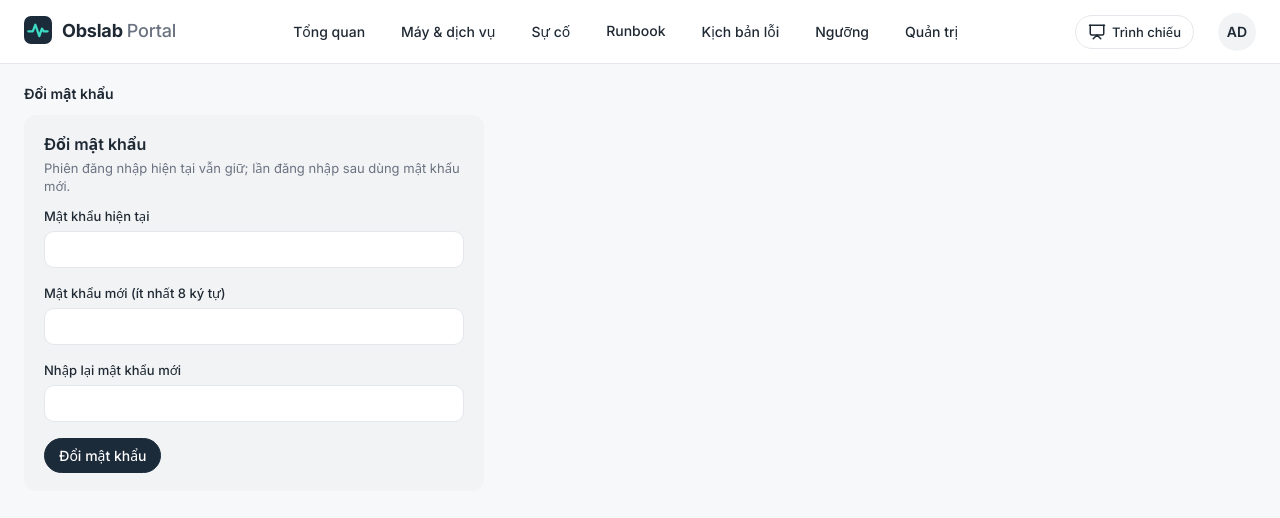
Test: đổi mật khẩu › sai mật khẩu hiện tại: hiện thông báo của backend
In the password field labelled "Mật khẩu hiện tại": (254, 250) [44,231,464,268], type "sai"
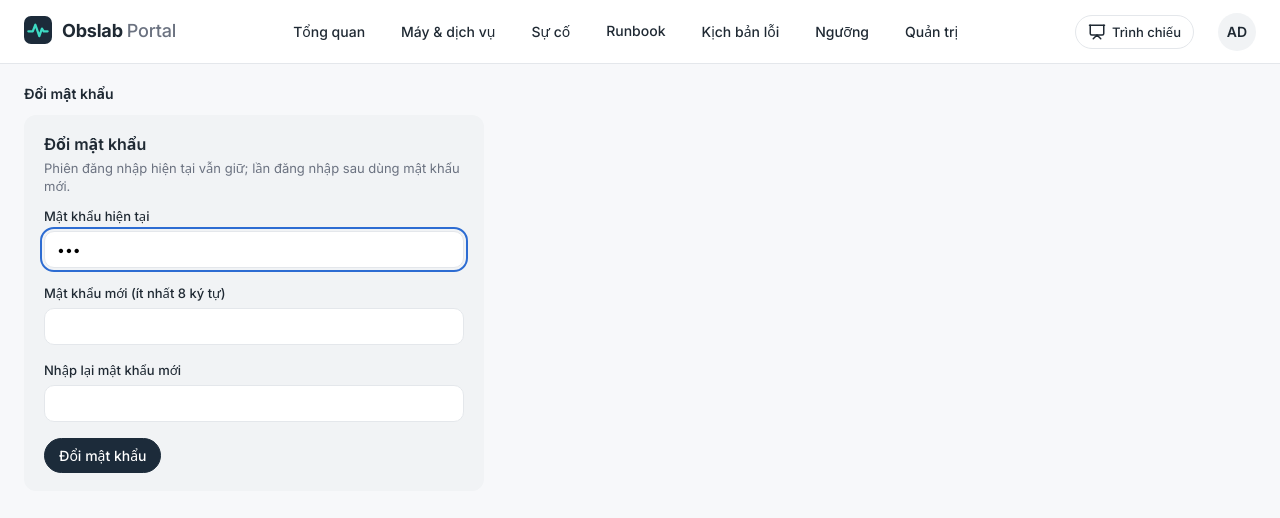
In the password field labelled "Mật khẩu mới (ít nhất 8 ký tự)": (254, 326) [44,308,464,345], type "moi-pass-456"
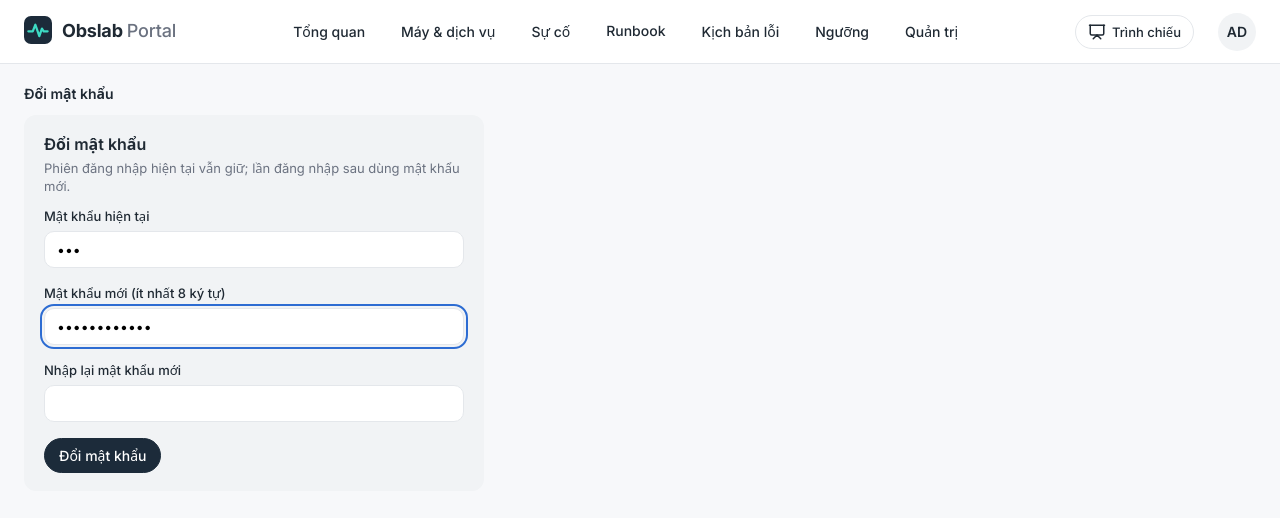
In the password field labelled "Nhập lại mật khẩu mới": (254, 404) [44,385,464,422], type "moi-pass-456"
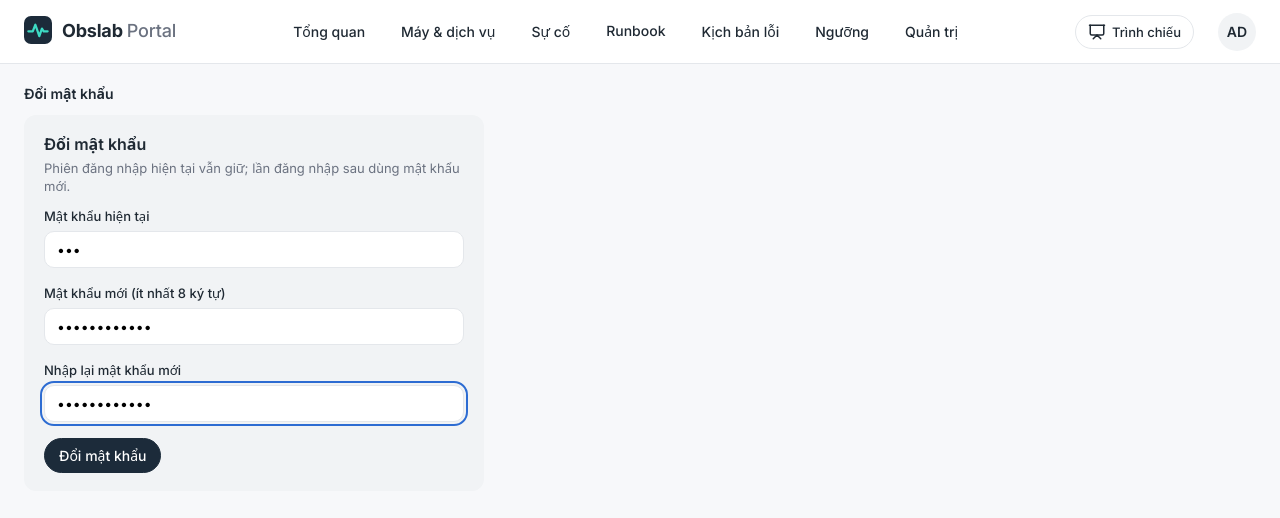
Click the button "Đổi mật khẩu": (103, 456) [44,438,162,473]
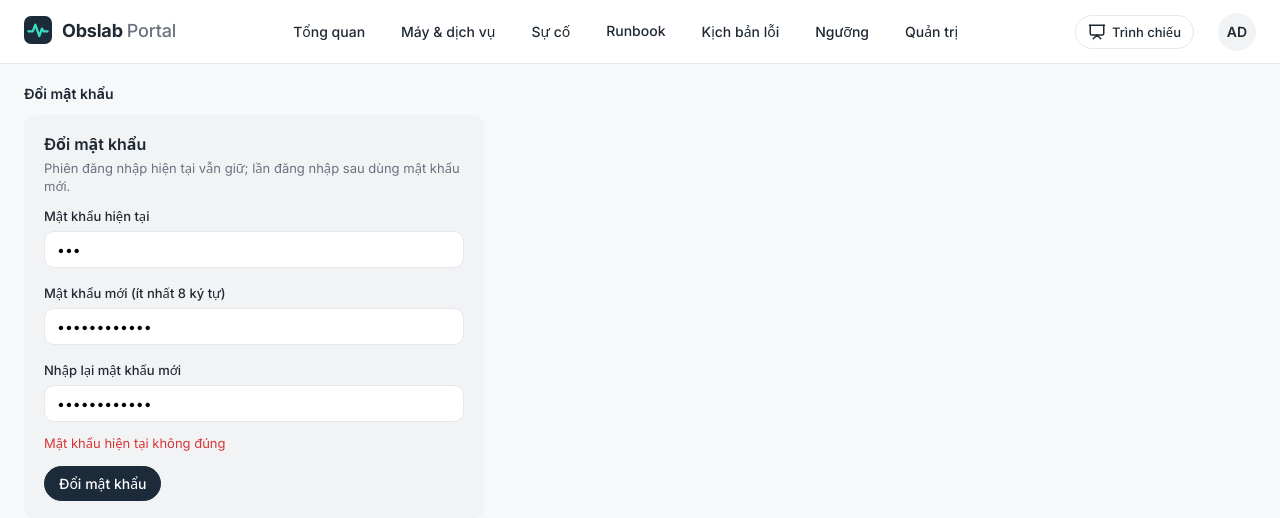
Result: the text "Mật khẩu hiện tại không đúng" is shown at [44,435,226,451]
